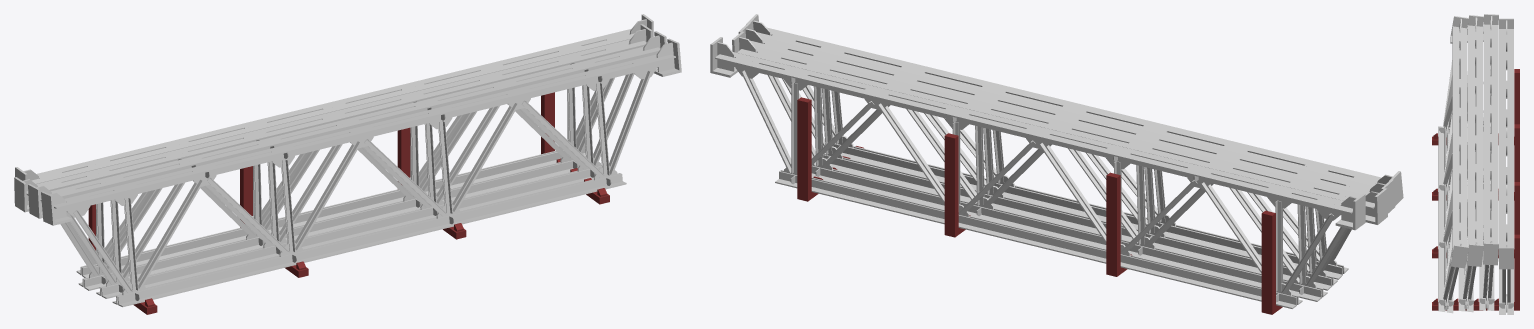
The model's file is SM_Truss04Pack.fbx.
The picture shows the model from 3 angles, left to right: view 1: azimuth 30°, elevation 25°; view 2: azimuth 150°, elevation 25°; view 3: azimuth 270°, elevation 25°; orthographic projection. The views are drawn at different scales.
Visible parts, largest first — view 1: Truss04PackConstr, Truss04PackBeams; view 2: Truss04PackConstr, Truss04PackBeams; view 3: Truss04PackConstr, Truss04PackBeams.
Boxes of the visible parts, box(x1,y1,x2,y2) form: Truss04PackConstr: box(14, 14, 681, 307); Truss04PackBeams: box(88, 92, 609, 314); Truss04PackConstr: box(710, 14, 1403, 308); Truss04PackBeams: box(797, 97, 1282, 314); Truss04PackConstr: box(1438, 14, 1513, 314); Truss04PackBeams: box(1432, 69, 1519, 310).
Bounding box in the file's own units: 1221 × 233 × 194.
